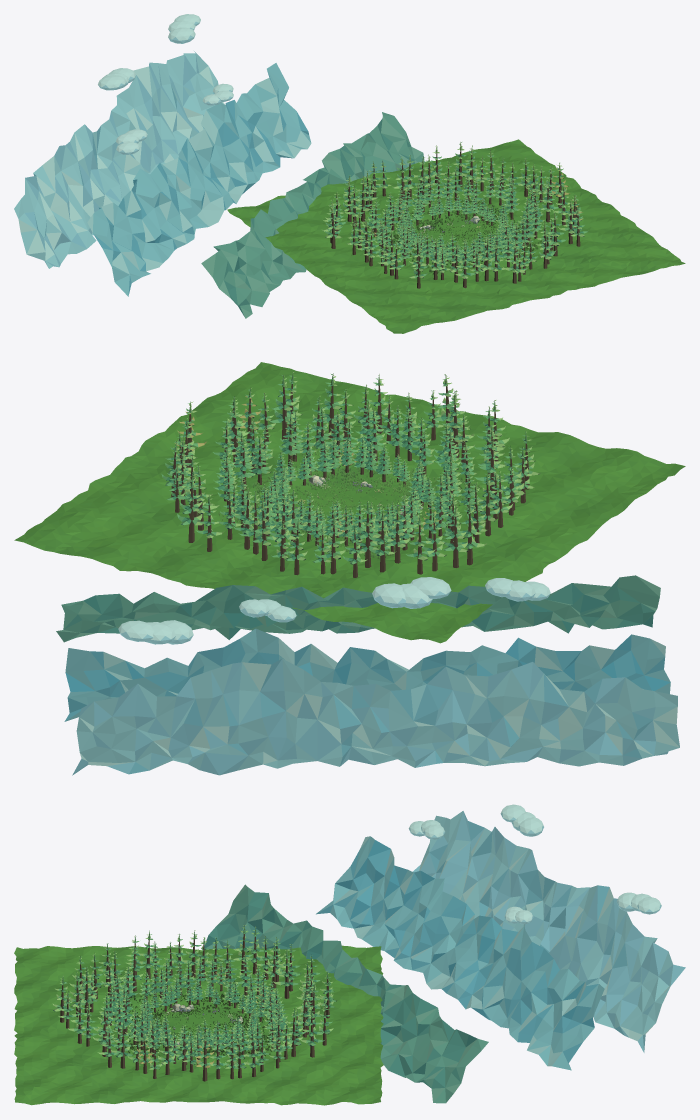
The model's file is forest-clearing.glb.
3 renders of one model, top to bottom at view 1: azimuth 30°, elevation 25°; view 2: azimuth 150°, elevation 25°; view 3: azimuth 270°, elevation 25°, orthographic. The views are drawn at different scales.
Parts seen in each view (by area): view 1: Distant mountain and cloud sky.001, Emerald meadow facets.001, Alpine pine grove | near middle far, Fine meadow drift grass.001; view 2: Distant mountain and cloud sky.001, Emerald meadow facets.001, Alpine pine grove | near middle far, Fine meadow drift grass.001; view 3: Distant mountain and cloud sky.001, Emerald meadow facets.001, Alpine pine grove | near middle far, Fine meadow drift grass.001.
Boxes of the visible parts, x1,y1,x2,y2 form: Distant mountain and cloud sky.001: (14,14,424,318); Emerald meadow facets.001: (227,139,685,333); Alpine pine grove | near middle far: (322,142,588,288); Fine meadow drift grass.001: (367,198,549,274); Distant mountain and cloud sky.001: (56,575,679,775); Emerald meadow facets.001: (14,362,685,643); Alpine pine grove | near middle far: (161,371,540,577); Fine meadow drift grass.001: (218,446,481,559); Distant mountain and cloud sky.001: (204,804,685,1103); Emerald meadow facets.001: (14,945,383,1105); Alpine pine grove | near middle far: (52,925,337,1081); Fine meadow drift grass.001: (124,991,271,1056).
Size of the model in its own units: 110 by 29.82 by 123.
